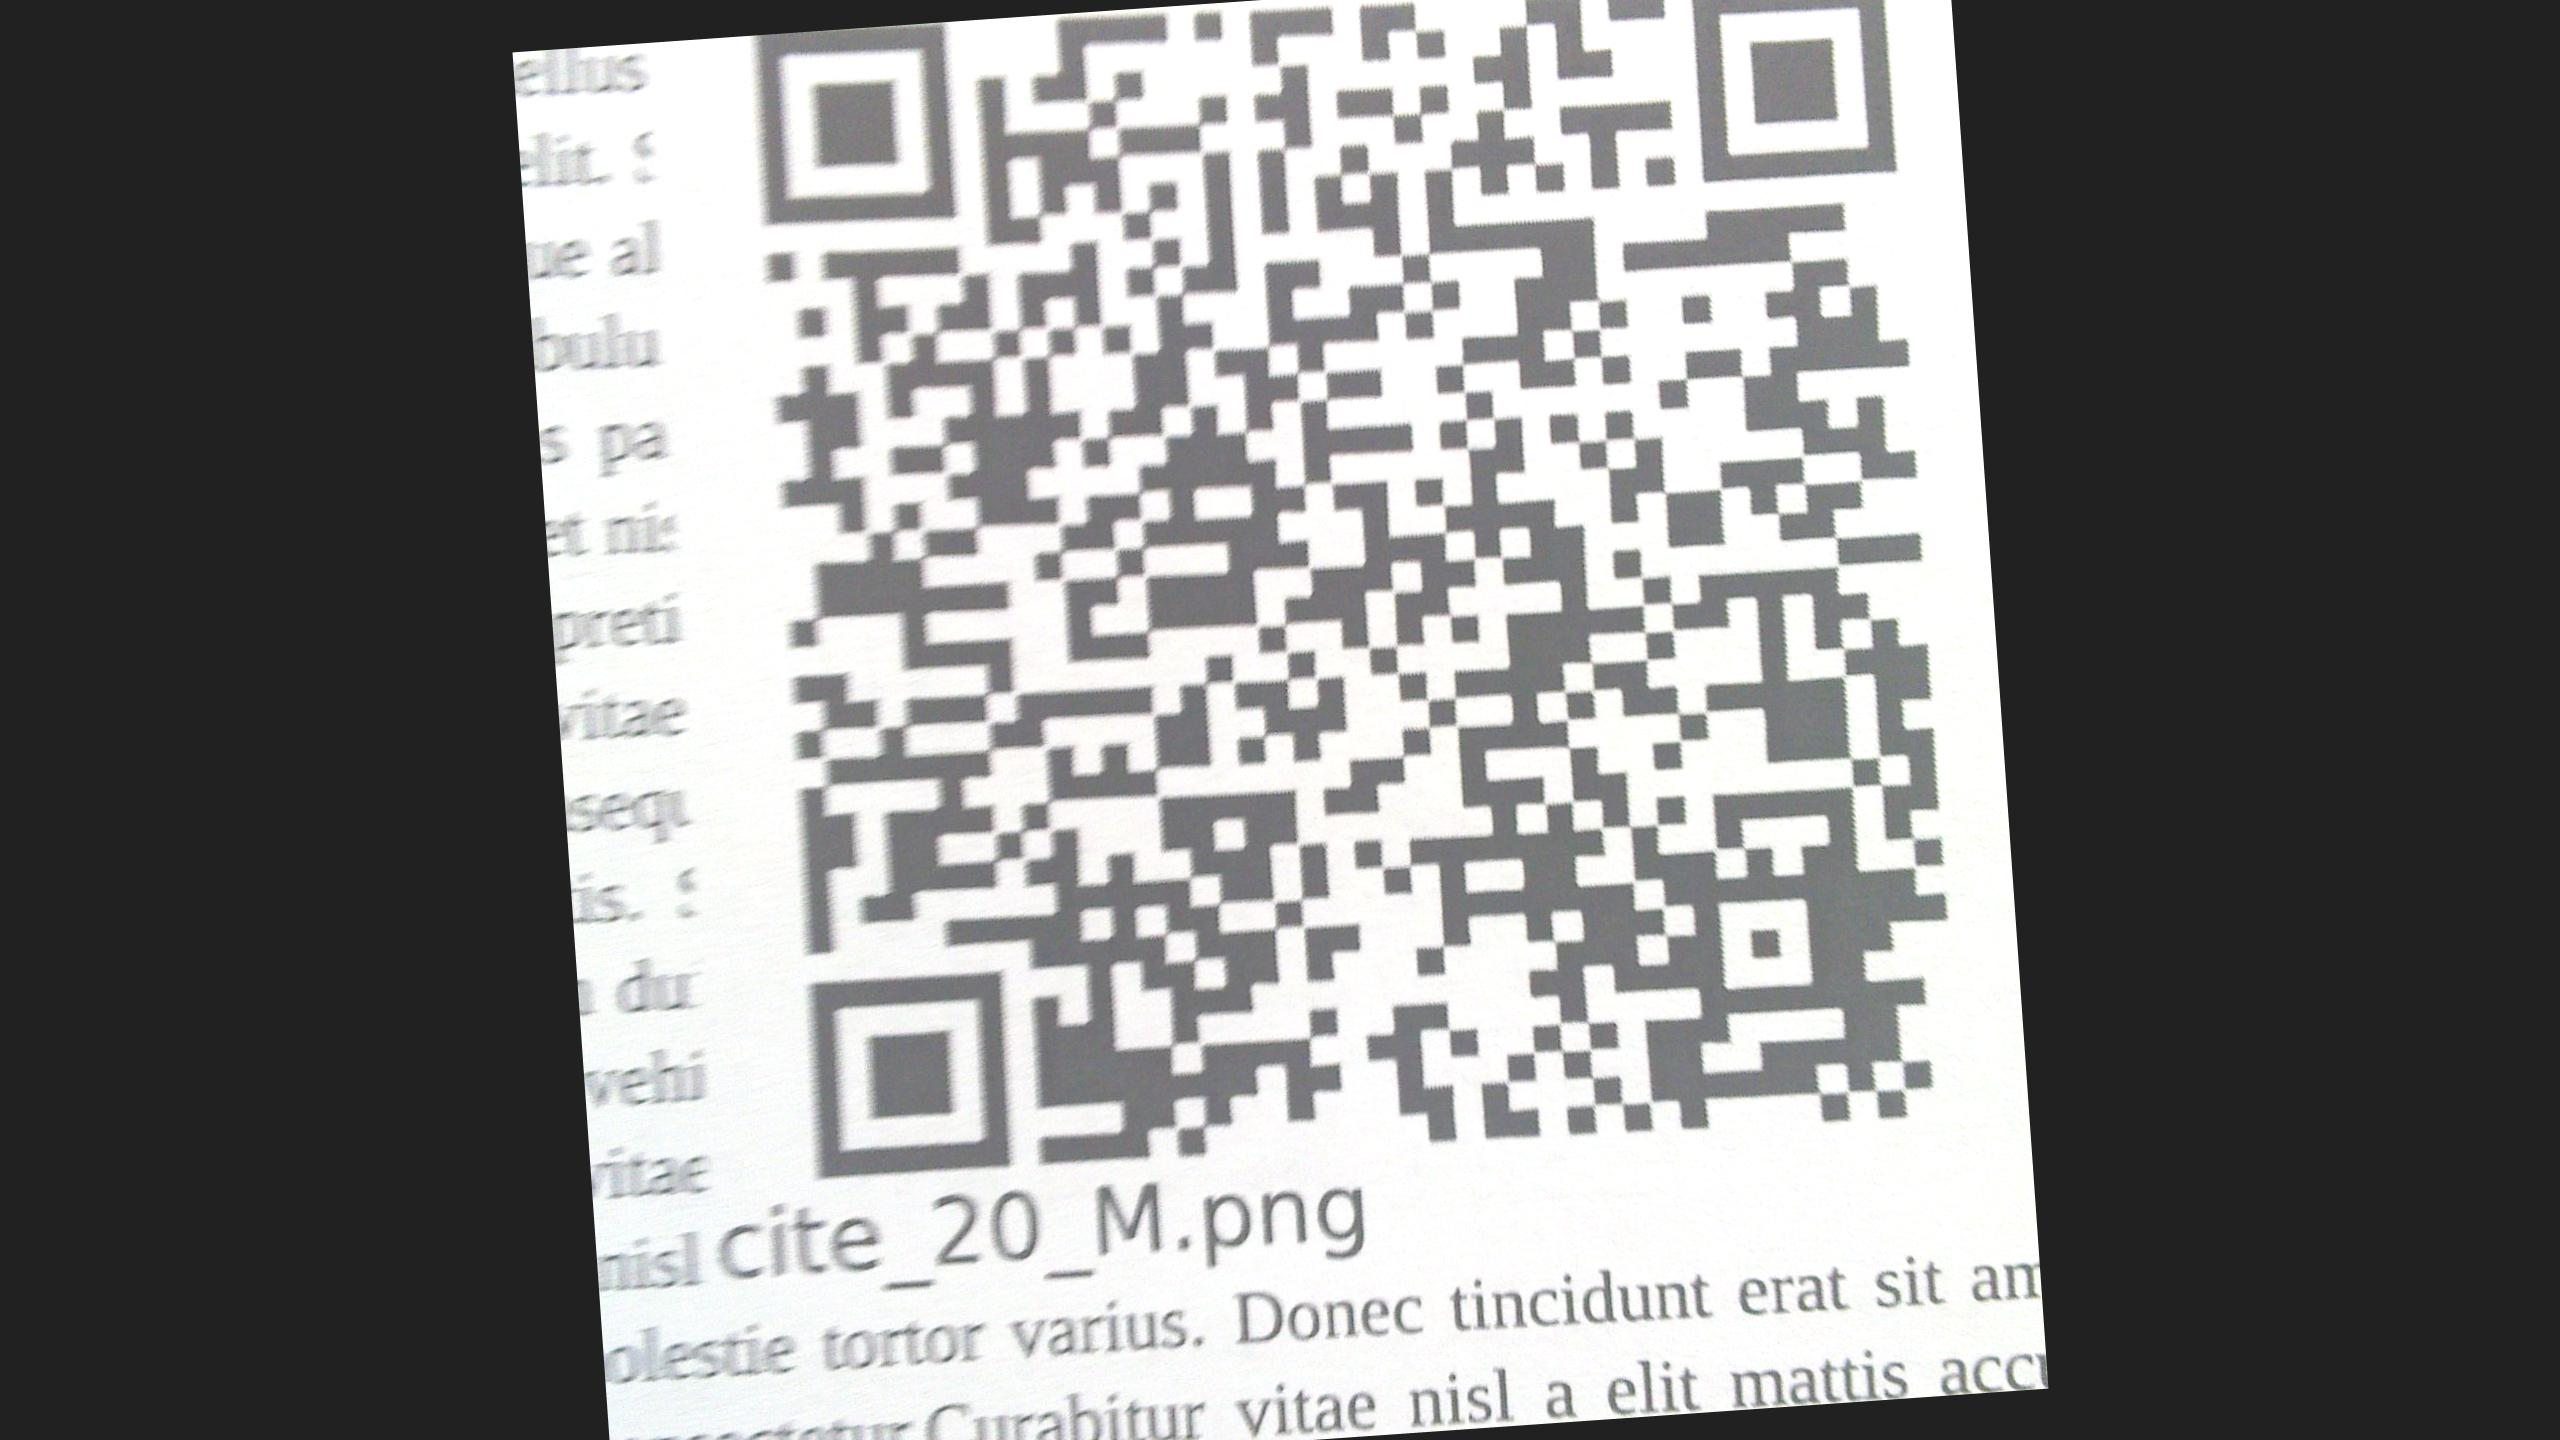QR: (747, 23, 1964, 1189)
